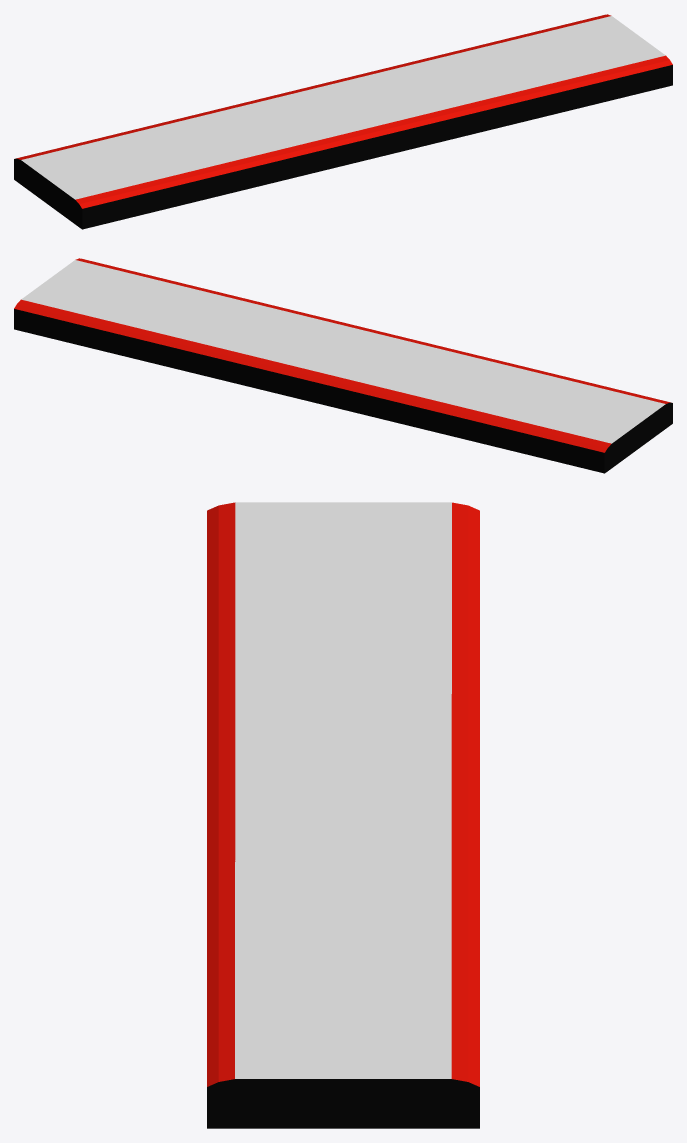
The model's file is conveyor belt.fbx.
3 views of the same model, one above another, from view 1: azimuth 30°, elevation 25°; view 2: azimuth 150°, elevation 25°; view 3: azimuth 270°, elevation 25° (orthographic). The views are drawn at different scales.
Parts seen in each view (by area): view 1: Cube; view 2: Cube; view 3: Cube.
Boxes of the visible parts, <box> form: Cube: <box>14,14,672,229</box>; Cube: <box>14,258,672,473</box>; Cube: <box>207,502,479,1128</box>.
Bounding box in the file's own units: 300 × 1500 × 60.
